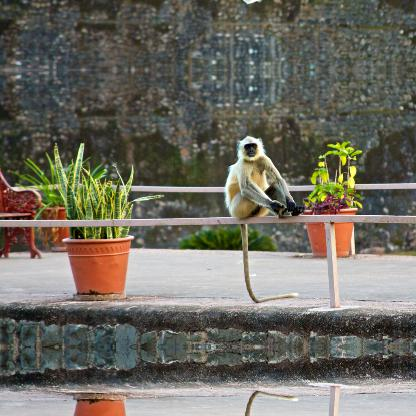Monkey: (222, 134, 296, 290)
